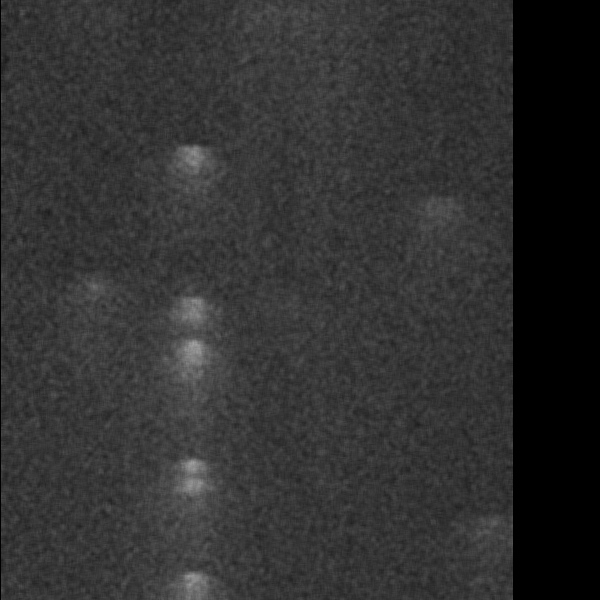spark: (481, 286, 514, 388)
